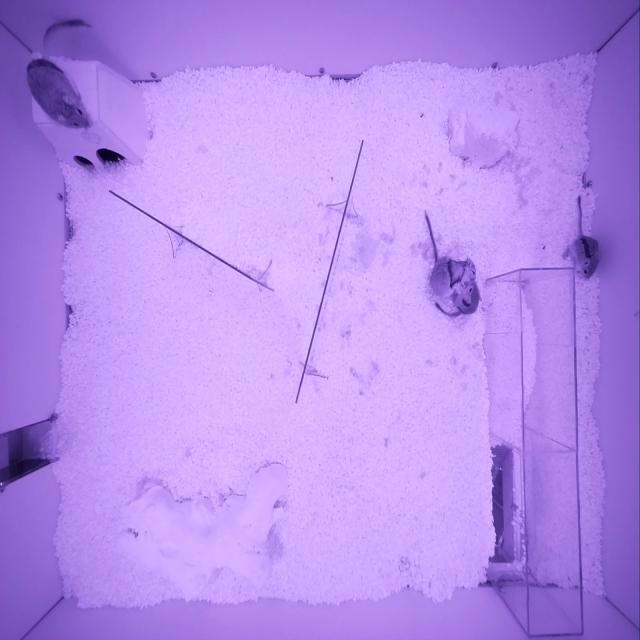adult_back: (26, 59, 93, 129)
adult_front: (430, 257, 476, 295)
pup_spotted: (454, 280, 483, 315)
pup_v_stripe: (568, 236, 599, 278)
